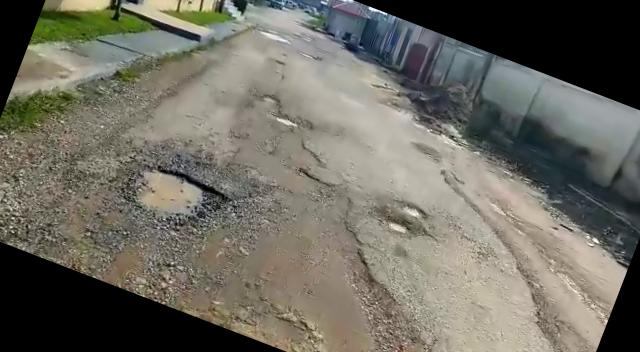pothole: (122, 158, 234, 244), (392, 198, 430, 222), (270, 112, 300, 131), (257, 92, 281, 107), (386, 220, 408, 236)
